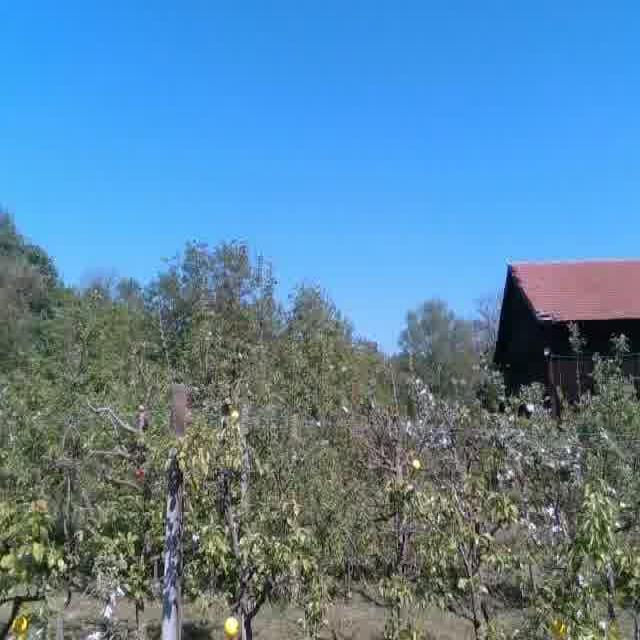red: (133, 466, 146, 482)
yellow: (218, 616, 243, 640), (9, 612, 28, 640), (411, 458, 422, 472)
